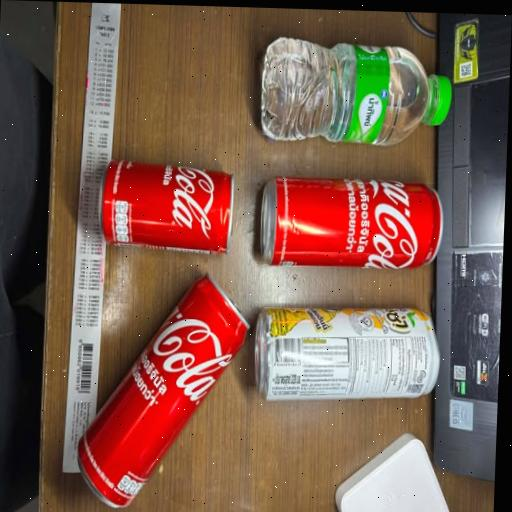bottle: (236, 29, 476, 160)
canned: (61, 257, 258, 512), (240, 283, 450, 451), (248, 156, 456, 287), (88, 146, 244, 268)
